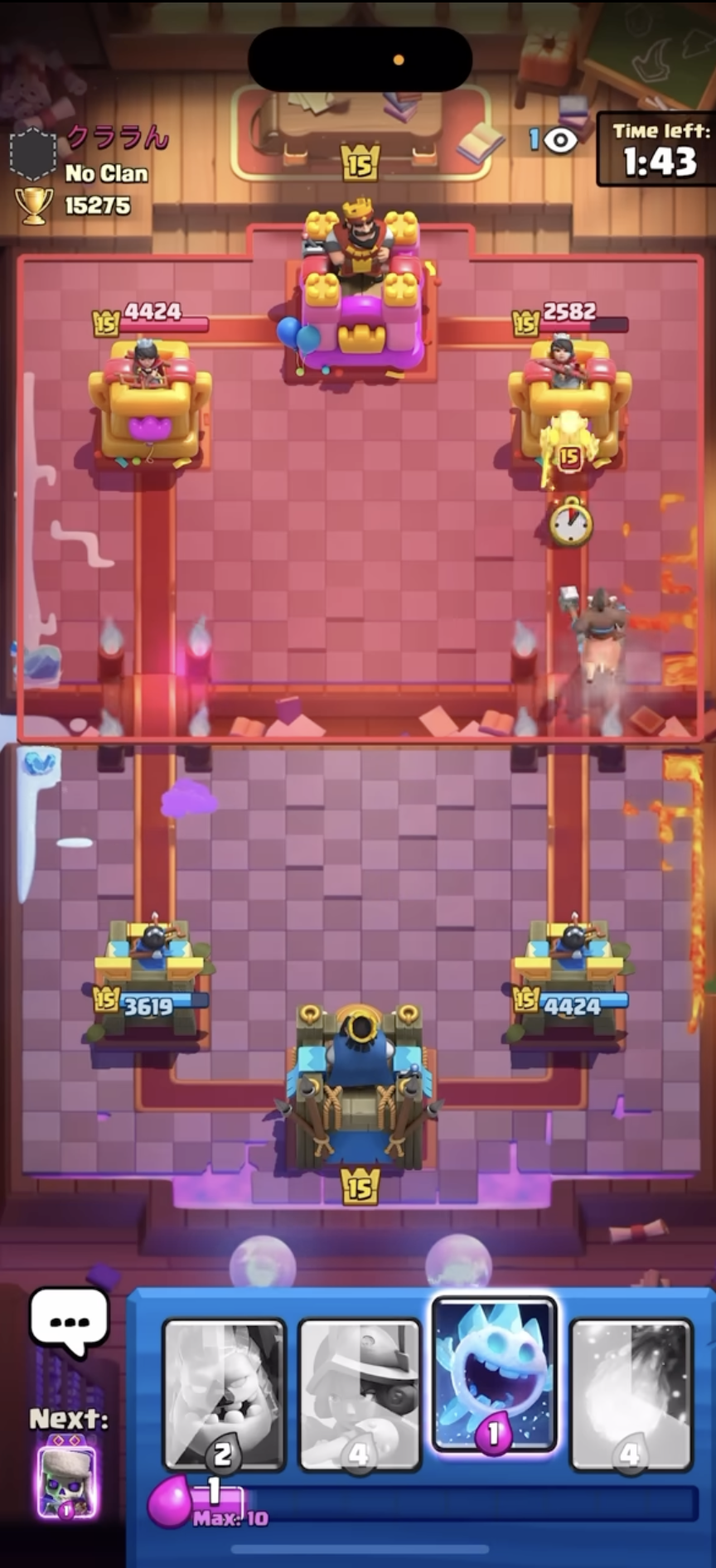hog_rider: (555, 579, 637, 684)
